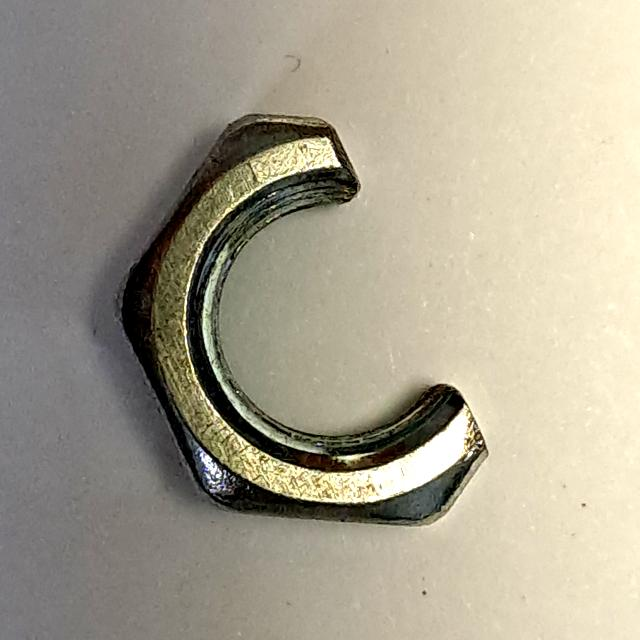Fracture: (92, 104, 507, 548)
